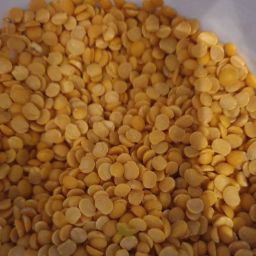Pigeon Pea(toor daal): (12, 13, 256, 256), (36, 95, 158, 229)
